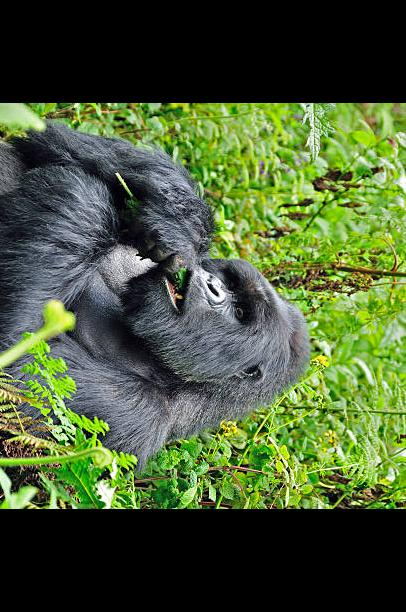goriile_montagne: (0, 113, 314, 488)
